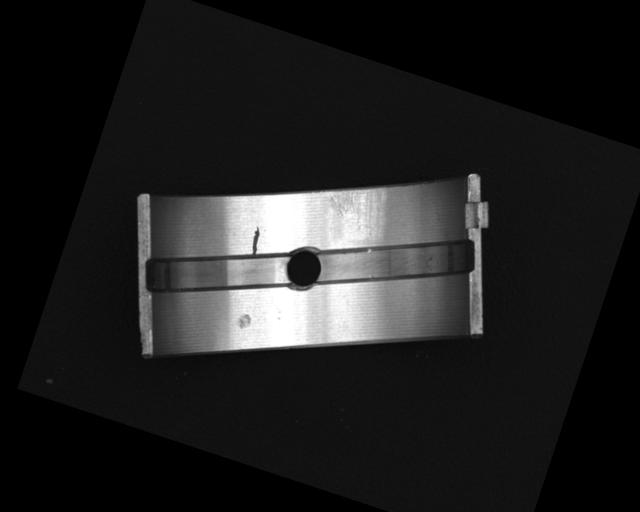bruise: (234, 310, 255, 331)
gap: (311, 201, 475, 324), (140, 220, 292, 329)
hole: (279, 245, 326, 293)
nick: (246, 223, 266, 257)
scratch: (320, 164, 395, 245)
